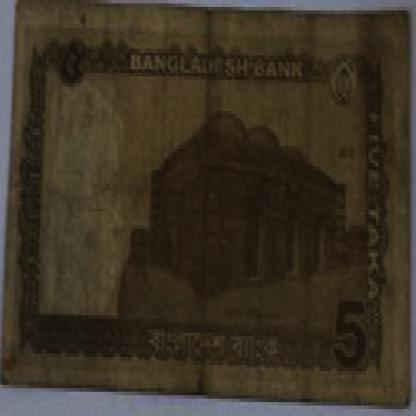Five Taka: (333, 291, 368, 388), (53, 31, 97, 108)
